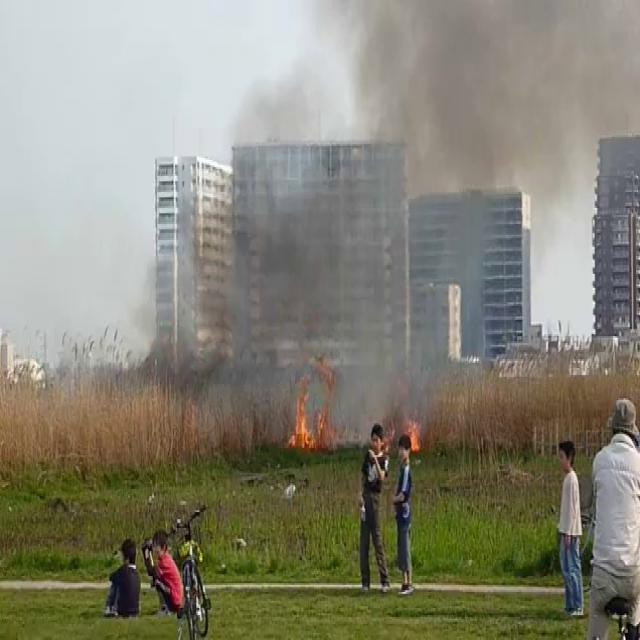Smoke: (217, 0, 639, 430)
